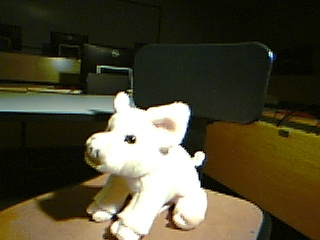piggy: (81, 90, 210, 240)
